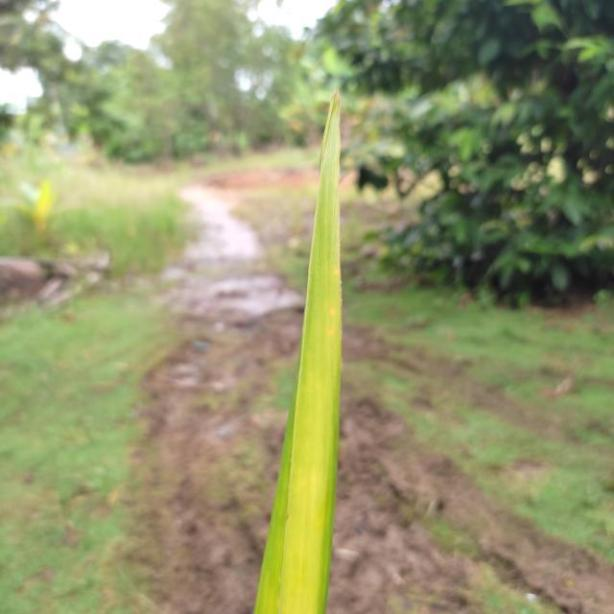nitrogen: (252, 64, 348, 614)
